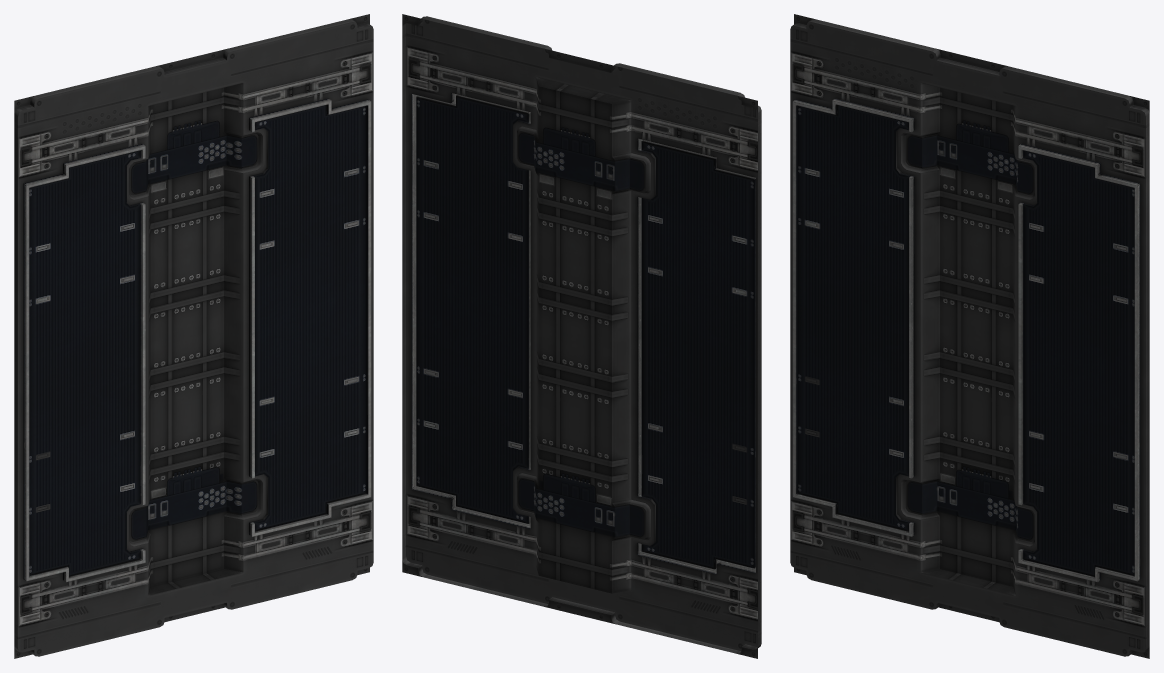
File: Panel_C_2x3_1_L2.FBX
3 renders of one model, left to right at view 1: azimuth 30°, elevation 25°; view 2: azimuth 150°, elevation 25°; view 3: azimuth 330°, elevation 25°, orthographic.
Parts seen in each view (by area): view 1: Panel_C_2x3_1_L1; view 2: Panel_C_2x3_1_L1; view 3: Panel_C_2x3_1_L1.
Boxes of the visible parts, x1=… form: Panel_C_2x3_1_L1: x1=14, y1=14, x2=373, y2=658; Panel_C_2x3_1_L1: x1=402, y1=14, x2=761, y2=658; Panel_C_2x3_1_L1: x1=790, y1=14, x2=1149, y2=658.
Size of the model in its own units: 200 by 300 by 11.07.
